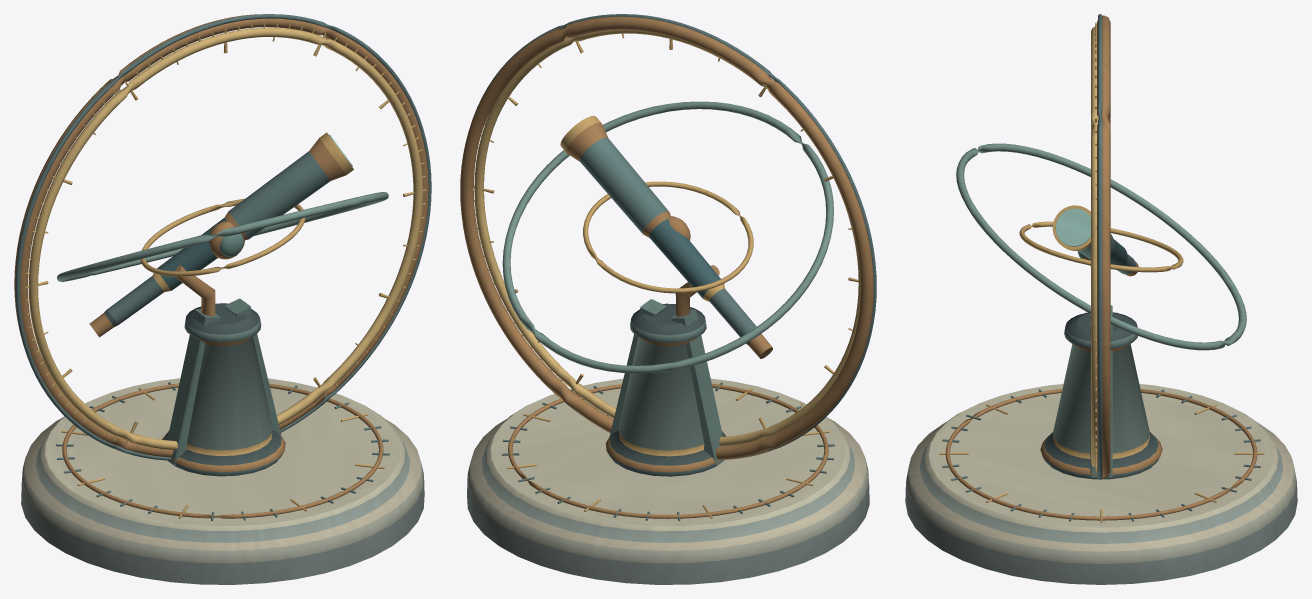
File: star_survey.glb
The picture shows the model from 3 angles, left to right: view 1: azimuth 30°, elevation 25°; view 2: azimuth 150°, elevation 25°; view 3: azimuth 270°, elevation 25°; orthographic projection. The views are drawn at different scales.
Parts seen in each view (by area): view 1: SurveyInstrument; view 2: SurveyInstrument; view 3: SurveyInstrument.
Part boxes in pixels (bbox=[...]): SurveyInstrument: bbox=[14, 14, 431, 584]; SurveyInstrument: bbox=[460, 14, 876, 584]; SurveyInstrument: bbox=[905, 14, 1297, 584].
Bounding box in the file's own units: 7.15 × 7.9 × 6.02.
Materials: 1 (1 with a texture image).
